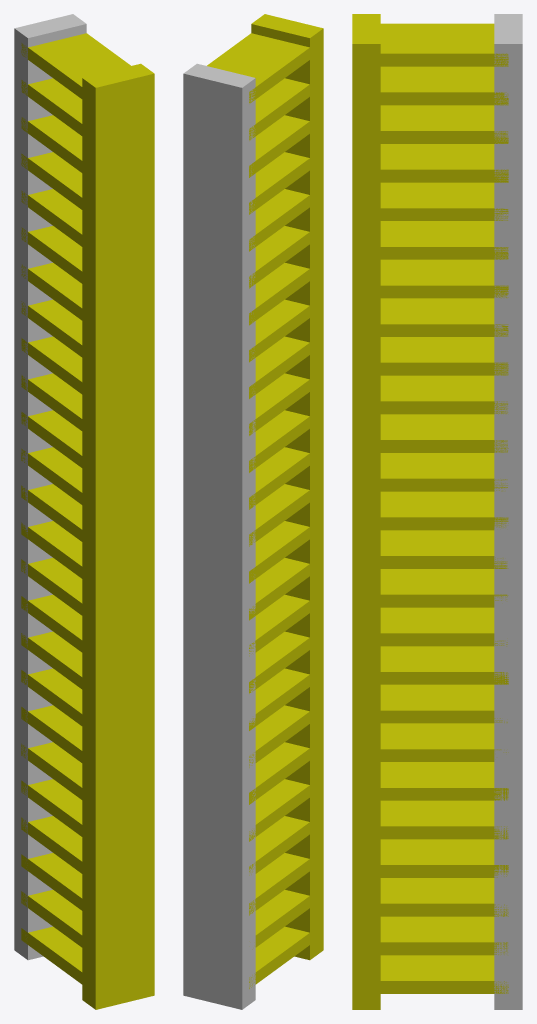
File: inFront.obj
3 renders of one model, left to right at view 1: azimuth 30°, elevation 25°; view 2: azimuth 150°, elevation 25°; view 3: azimuth 270°, elevation 25°, orthographic. The views are drawn at different scales.
Parts seen in each view (by area): view 1: 立方体; view 2: 立方体; view 3: 立方体.
Part boxes in pixels (x1=…): 立方体: x1=14, y1=14, x2=154, y2=1009; 立方体: x1=183, y1=14, x2=323, y2=1009; 立方体: x1=352, y1=14, x2=522, y2=1009.
Bounding box in the file's own units: 1 × 15 × 2.4.
